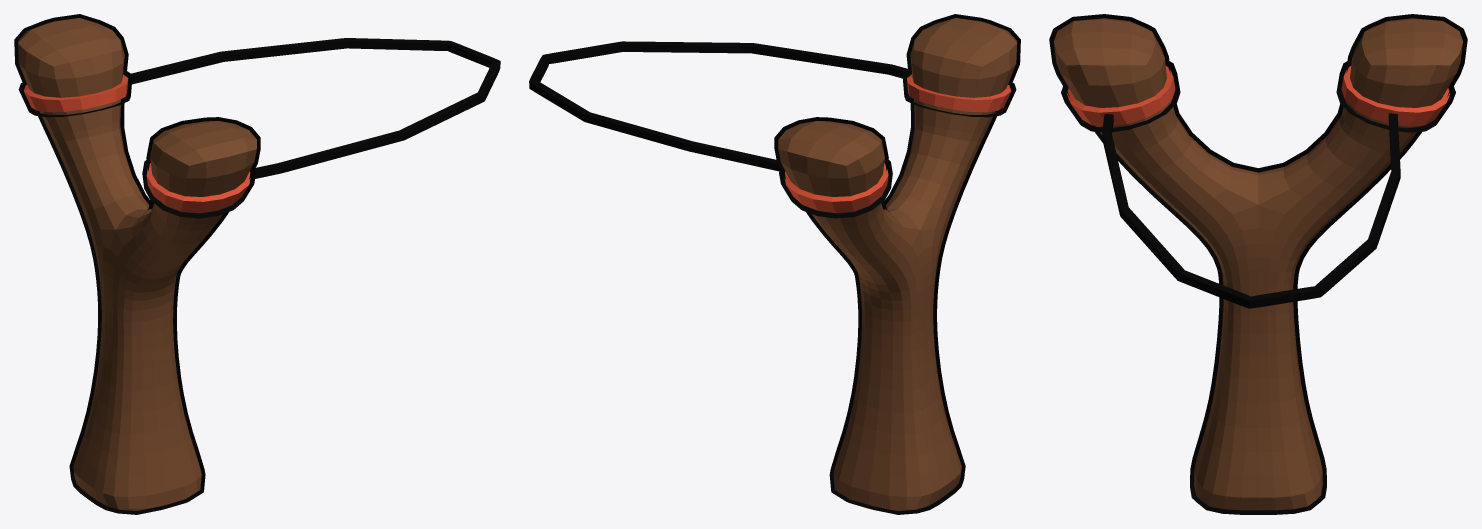
The model's file is sapan.fbx.
3 renders of one model, left to right at view 1: azimuth 30°, elevation 25°; view 2: azimuth 150°, elevation 25°; view 3: azimuth 270°, elevation 25°, orthographic. The views are drawn at different scales.
Parts seen in each view (by area): view 1: Plane, Cylinder; view 2: Plane, Cylinder; view 3: Plane, Cylinder.
Boxes of the visible parts, x1,y1,x2,y2 form: Plane: [14, 14, 260, 514]; Cylinder: [131, 38, 500, 179]; Plane: [774, 14, 1020, 514]; Cylinder: [529, 41, 907, 171]; Plane: [1049, 14, 1467, 514]; Cylinder: [1102, 113, 1400, 308].
Size of the model in its own units: 128 by 123 by 100.
